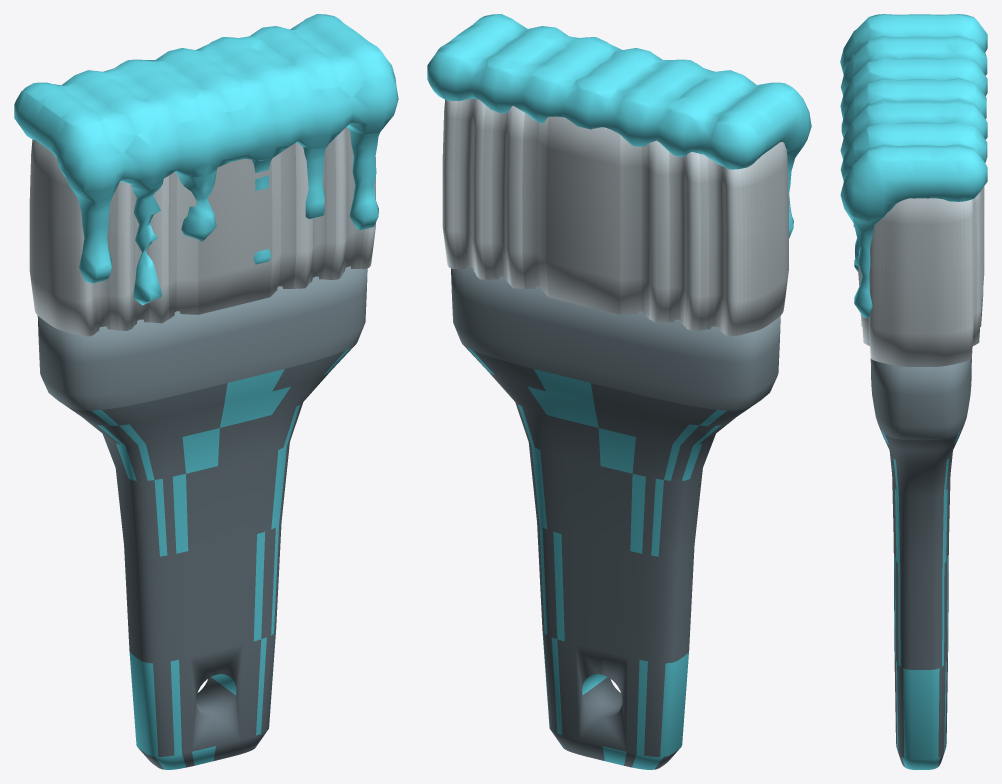
File: Paintbrush_Alien.glb
3 views of the same model, side by side, from view 1: azimuth 30°, elevation 25°; view 2: azimuth 150°, elevation 25°; view 3: azimuth 270°, elevation 25° (orthographic). The views are drawn at different scales.
Parts seen in each view (by area): view 1: Body, Paint, Bristles; view 2: Body, Bristles, Paint; view 3: Paint, Body, Bristles.
Boxes of the visible parts, x1,y1,x2,y2 form: Body: (37, 266, 367, 769); Paint: (14, 14, 398, 305); Bristles: (29, 127, 375, 336); Body: (451, 266, 780, 769); Bristles: (442, 98, 788, 336); Paint: (427, 14, 811, 238); Paint: (840, 14, 987, 318); Body: (870, 358, 971, 769); Bristles: (858, 186, 984, 366).
Size of the model in its own units: 1.23 by 2.44 by 0.4919.
